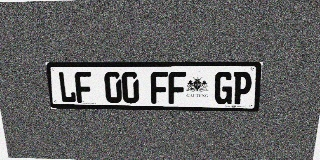0: (104, 72, 122, 103), (121, 72, 139, 103)
F: (168, 71, 186, 104), (74, 72, 93, 103), (151, 72, 168, 104)
G: (214, 71, 233, 104)
L: (58, 72, 77, 103)
P: (232, 71, 252, 105)
